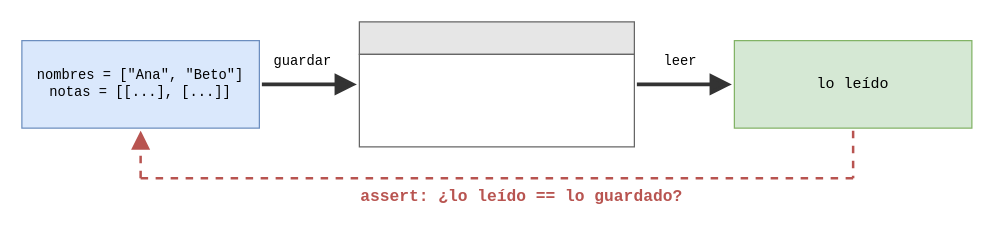
Some shapes in this 994 by 235 pixel diagram are drawn without their labels. The shapes that lost their labels are listed below. From the top down, each one's centre as x and y in pixels, then its label:
At point 496,37: "📄 prueba_curso.csv".
At point 496,100: "nombre,parcial1,... Ana,3.0,3.5,2.5 Beto,4.5,4.0,5.0".
